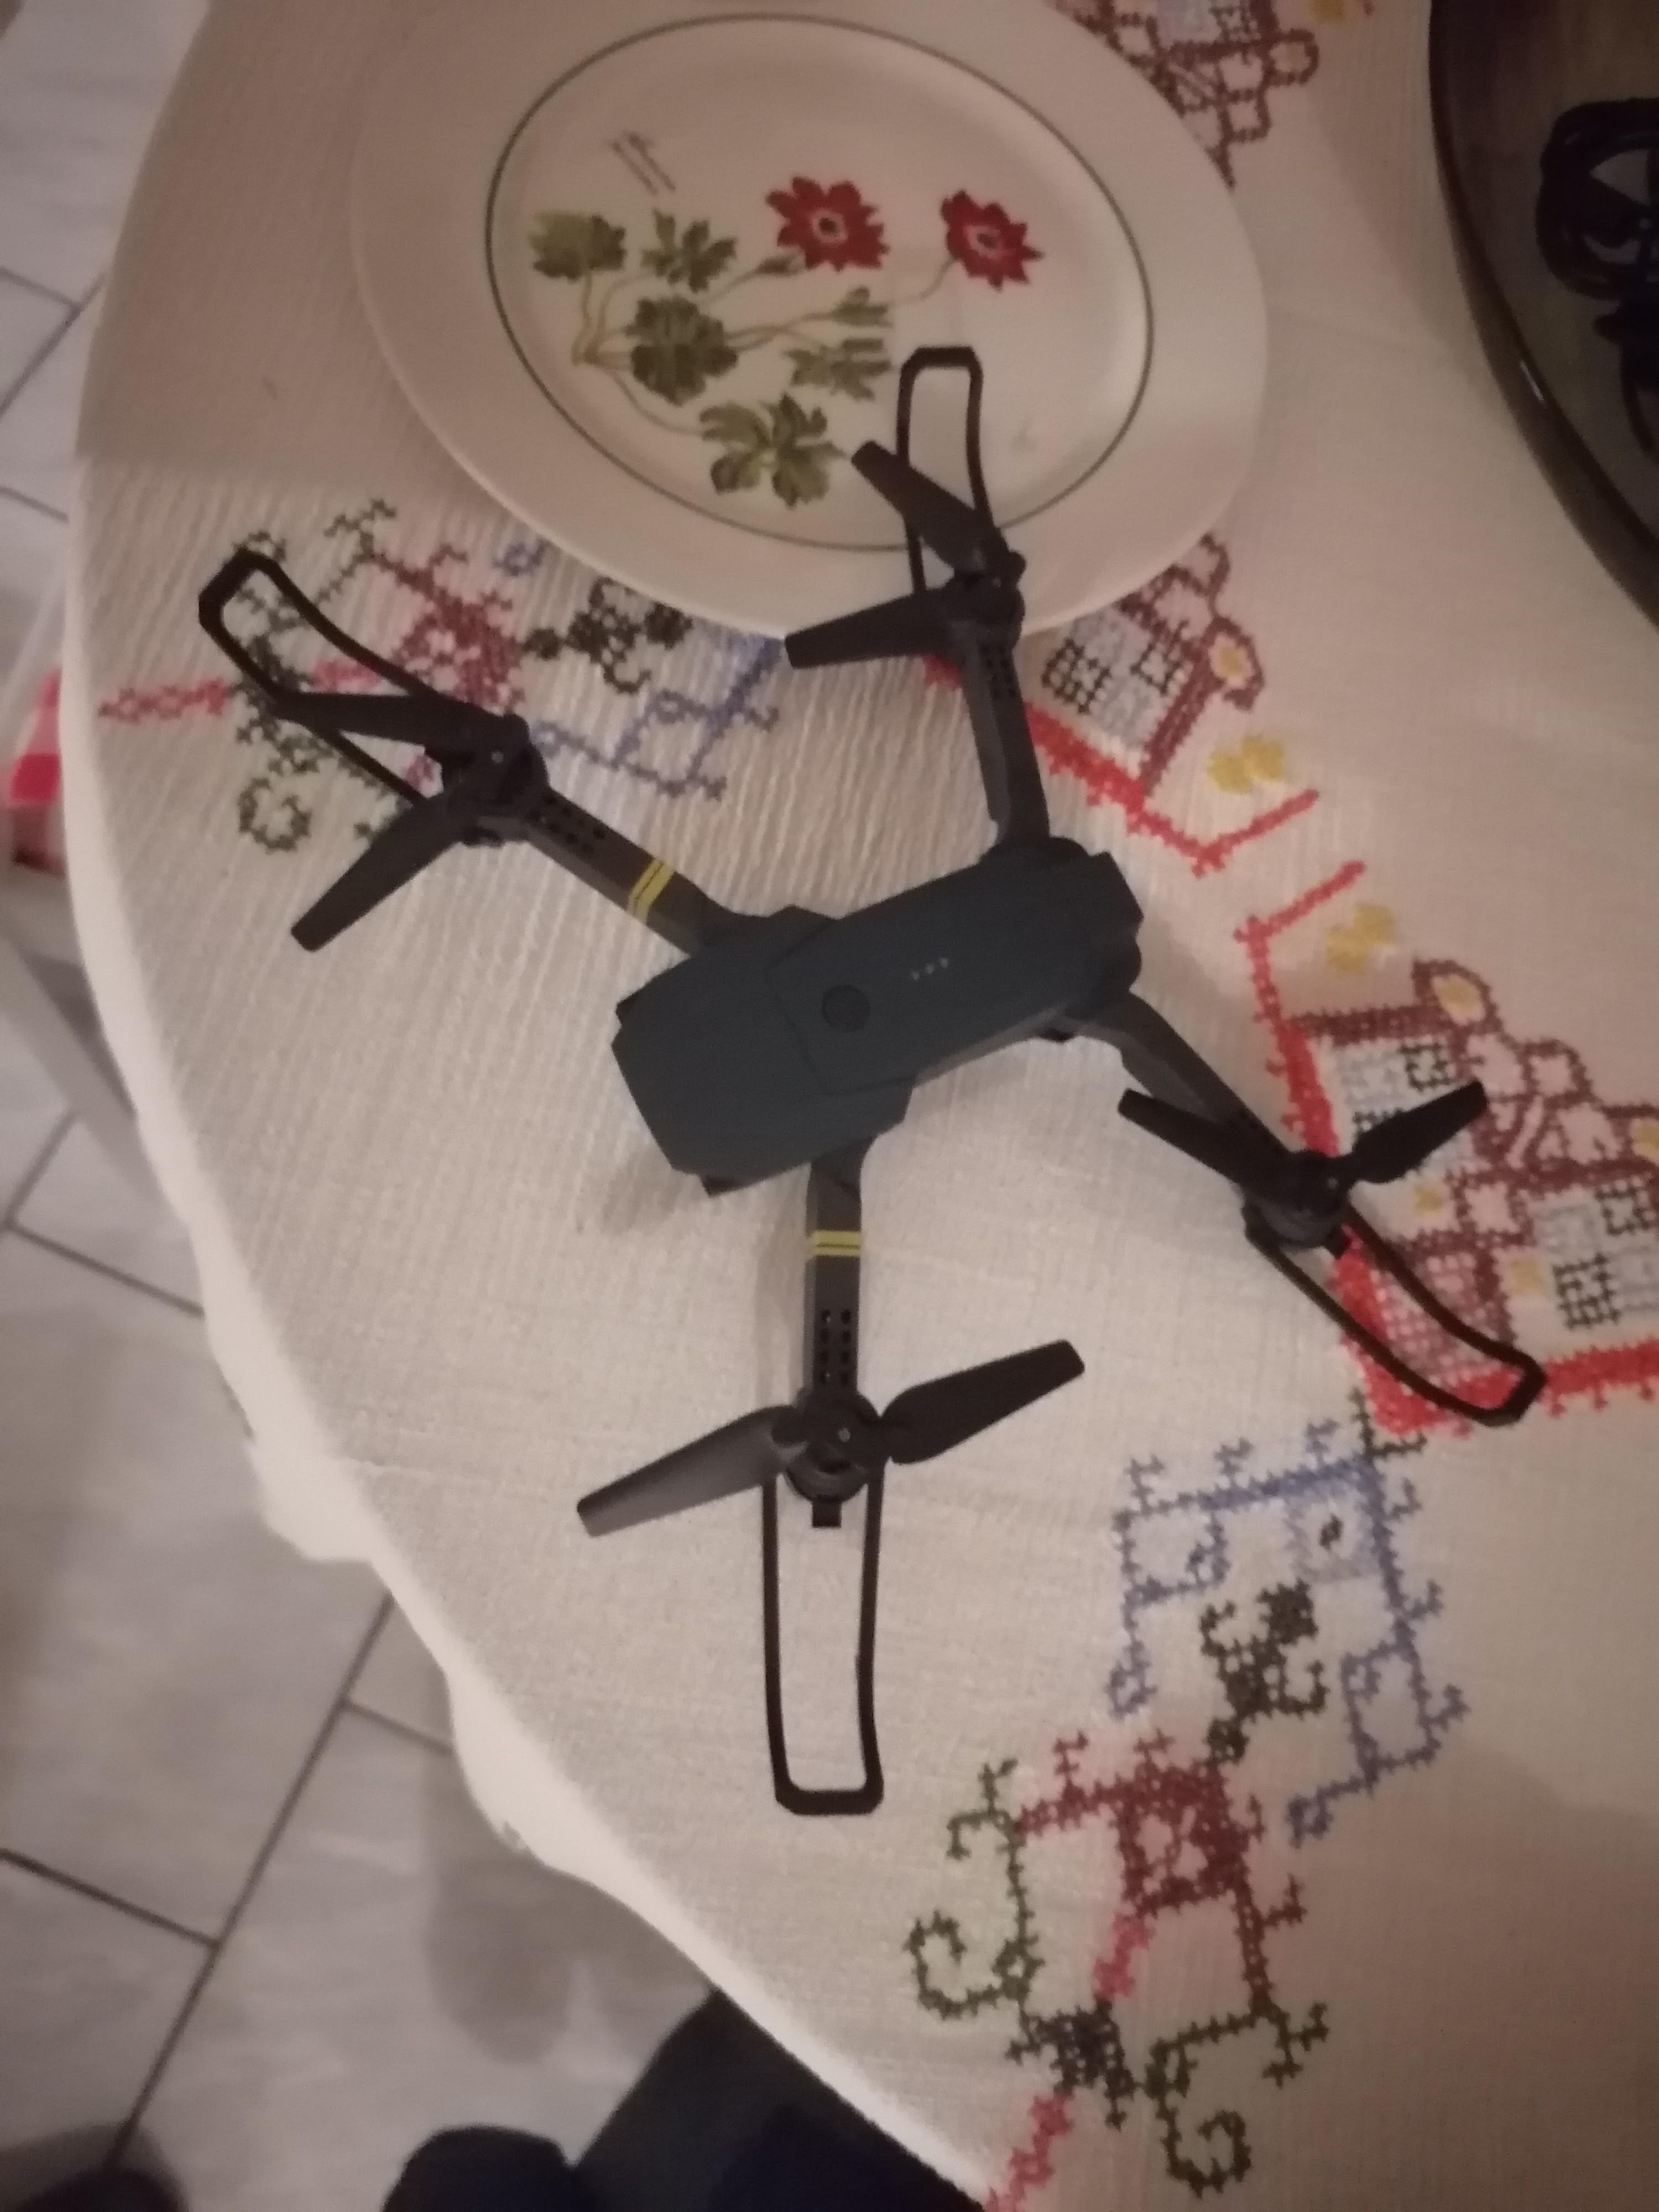drone: (220, 590, 1478, 1580)
